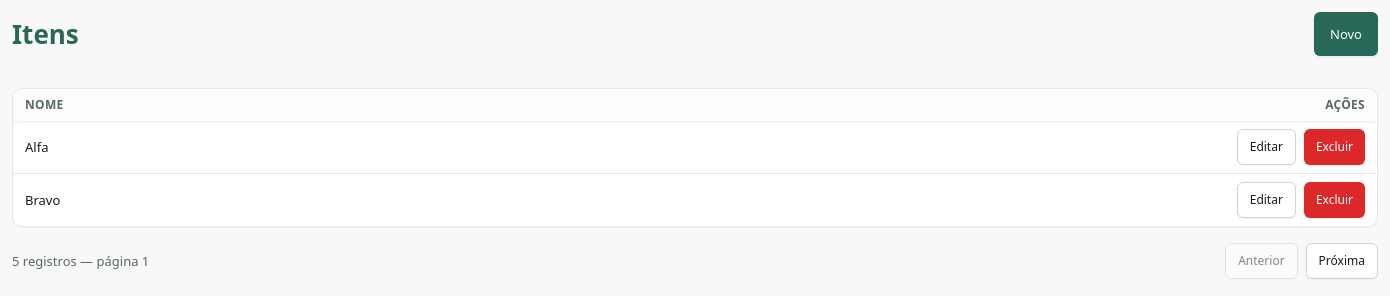
CrudPage — paginação › Próxima fica desabilitada na última página
This screenshot has width=1390, height=296.
Expected: the text "Alfa" is shown, [13,121,410,174]
Click the button "Próxima" at (1342, 261), box [1306,243,1378,279]
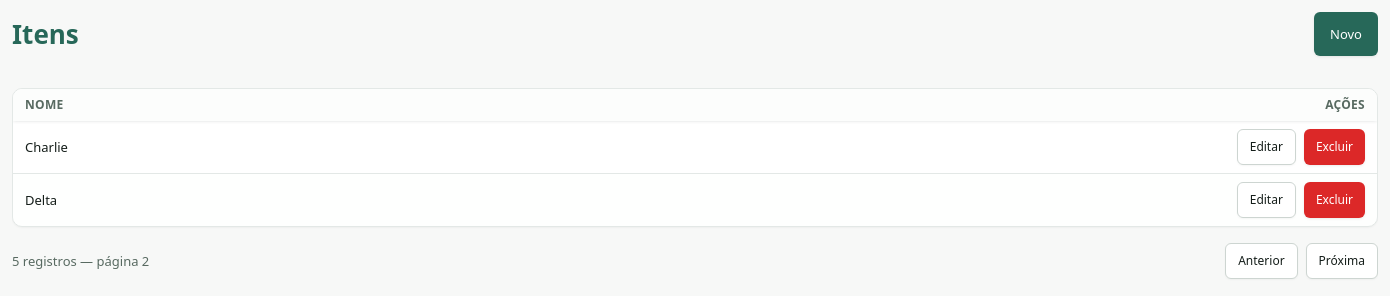
Now the text "Charlie" is shown, box [13,121,430,174]
Click the button "Próxima" at (1342, 261), box [1306,243,1378,279]
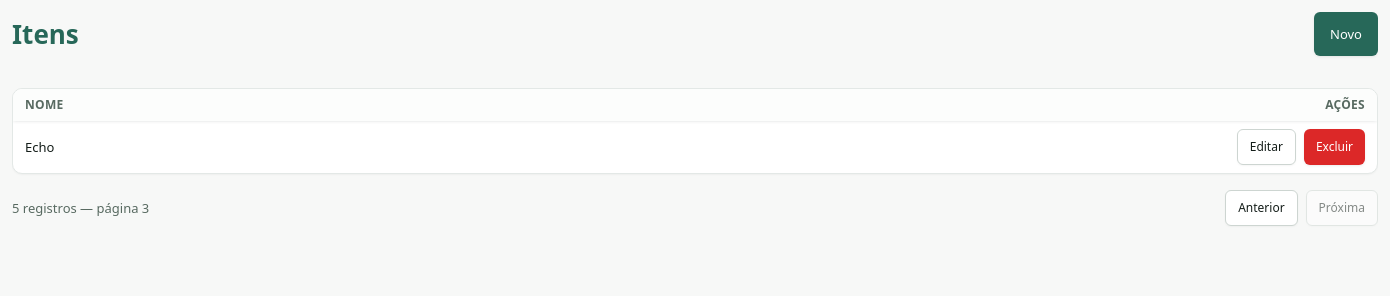
Now the button "Anterior" is enabled, box [1225,190,1298,226]
Now the text "Echo" is shown, box [13,121,410,173]
Now the button "Próxima" is disabled, box [1306,190,1378,226]
